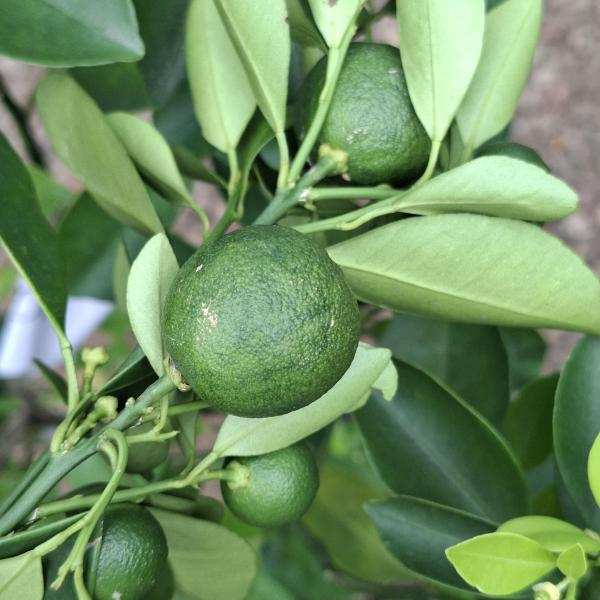Scab: (158, 229, 367, 427), (294, 39, 441, 204)
